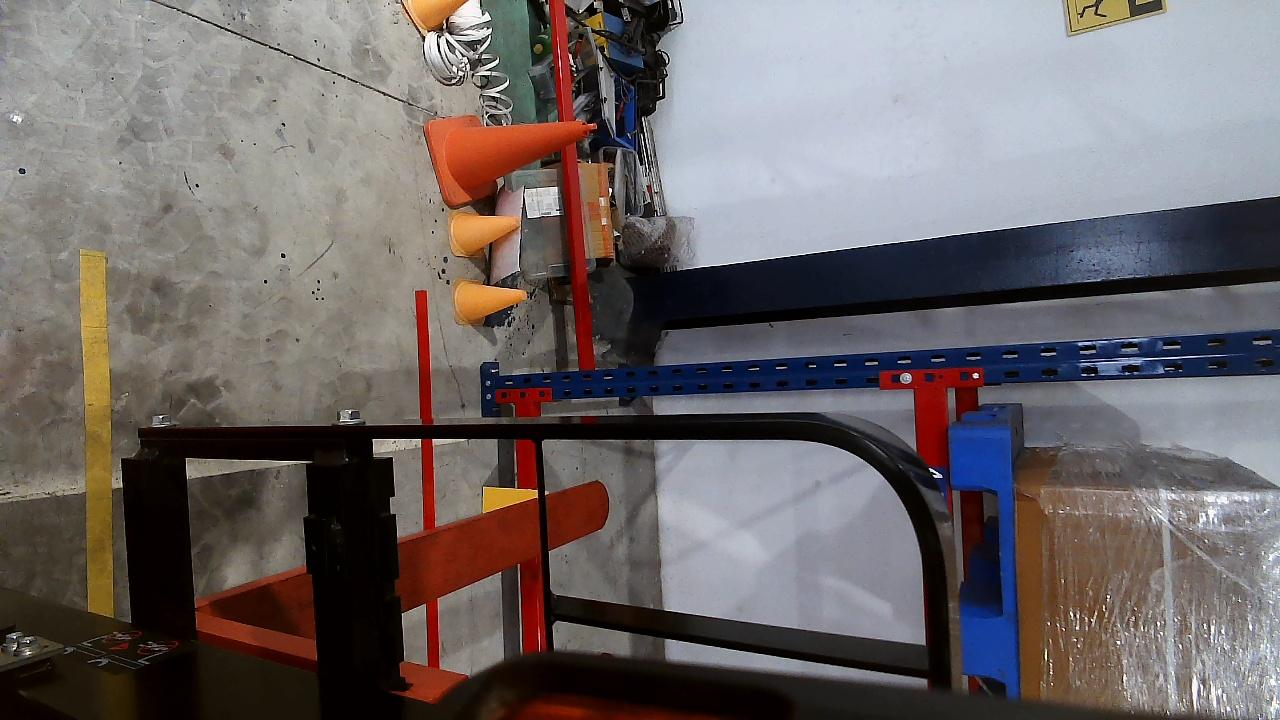h_rack: (513, 400, 548, 651)
orange_strip: (483, 486, 539, 510)
red_line: (413, 290, 438, 665)
small_pallet: (944, 430, 1016, 699)
yellow_line: (78, 251, 116, 616)
